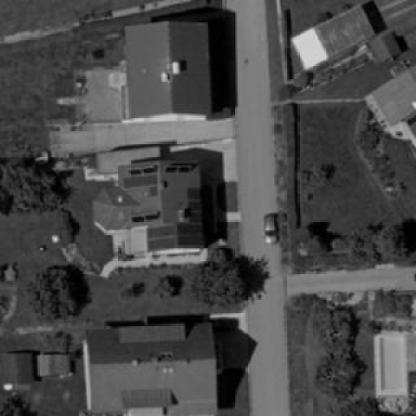solar-pv-panel: (147, 189, 202, 251), (125, 175, 155, 187), (130, 169, 154, 175), (133, 215, 157, 220), (166, 168, 190, 172)
